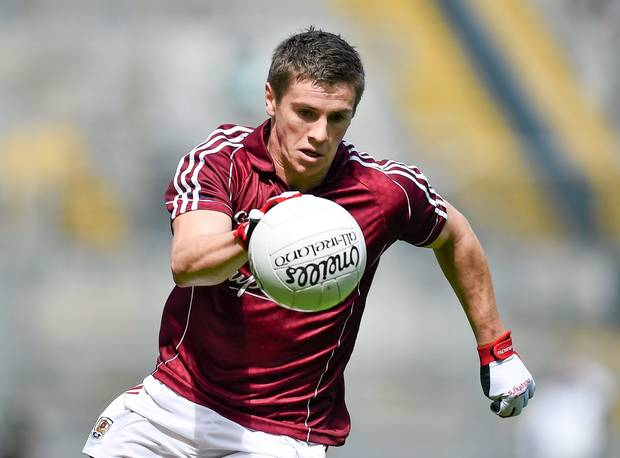ball: (245, 190, 367, 310)
player: (155, 13, 426, 456)
